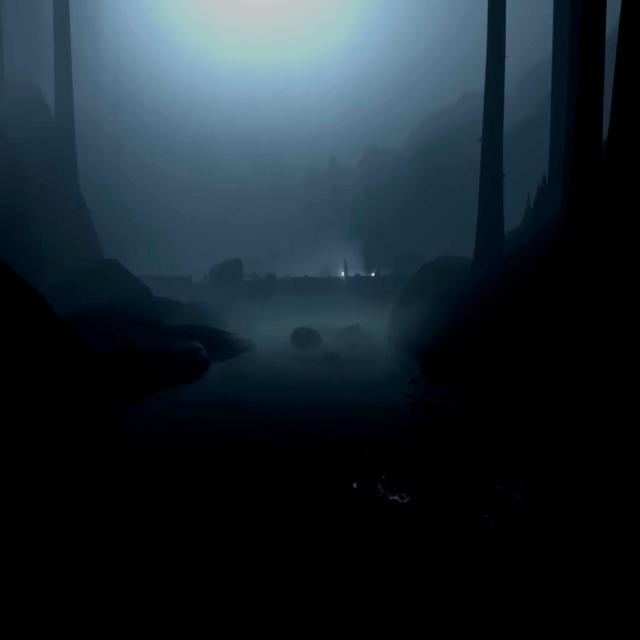boy: (354, 452, 385, 502)
